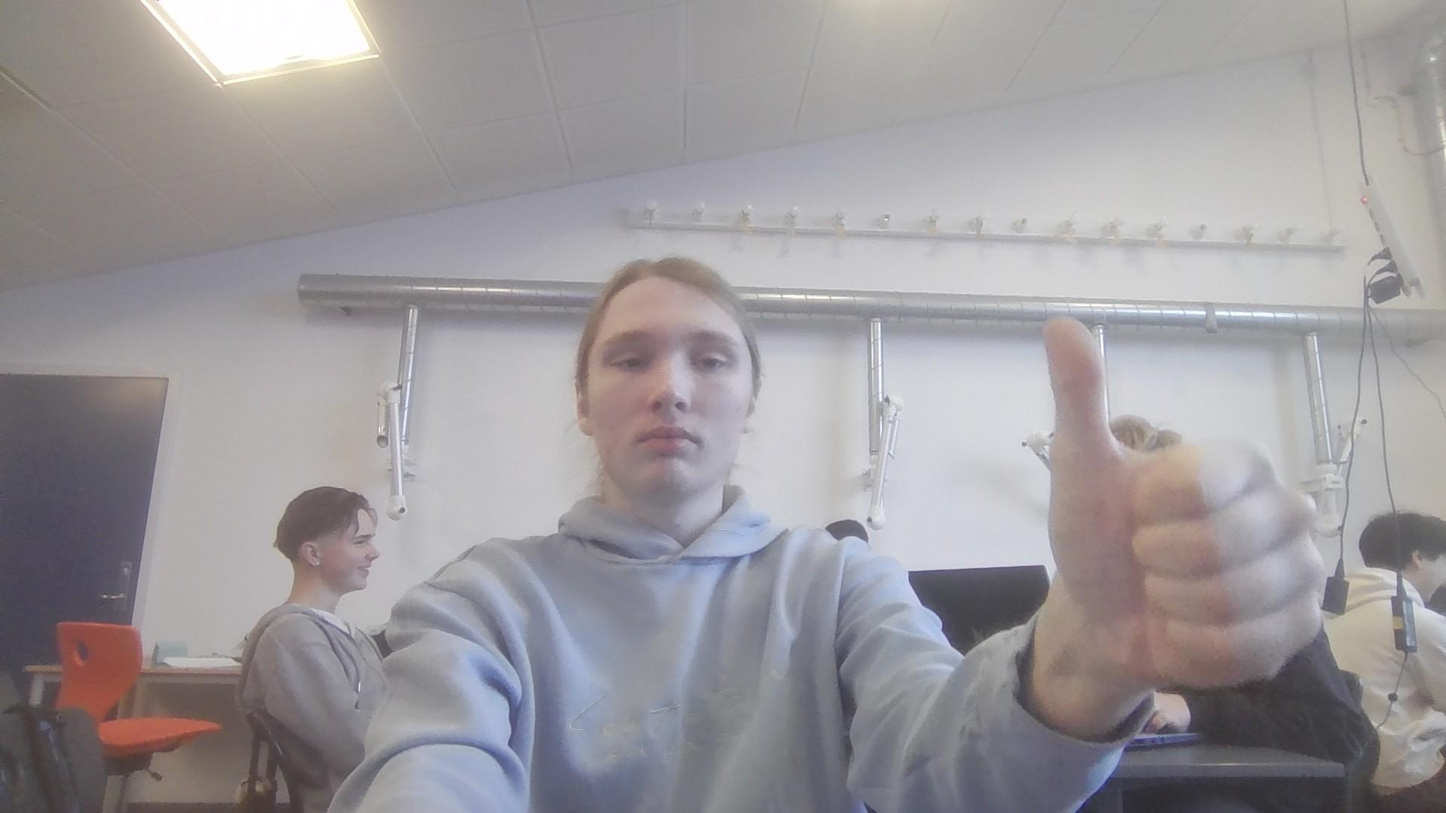thumbs up: (1036, 309, 1331, 700)
